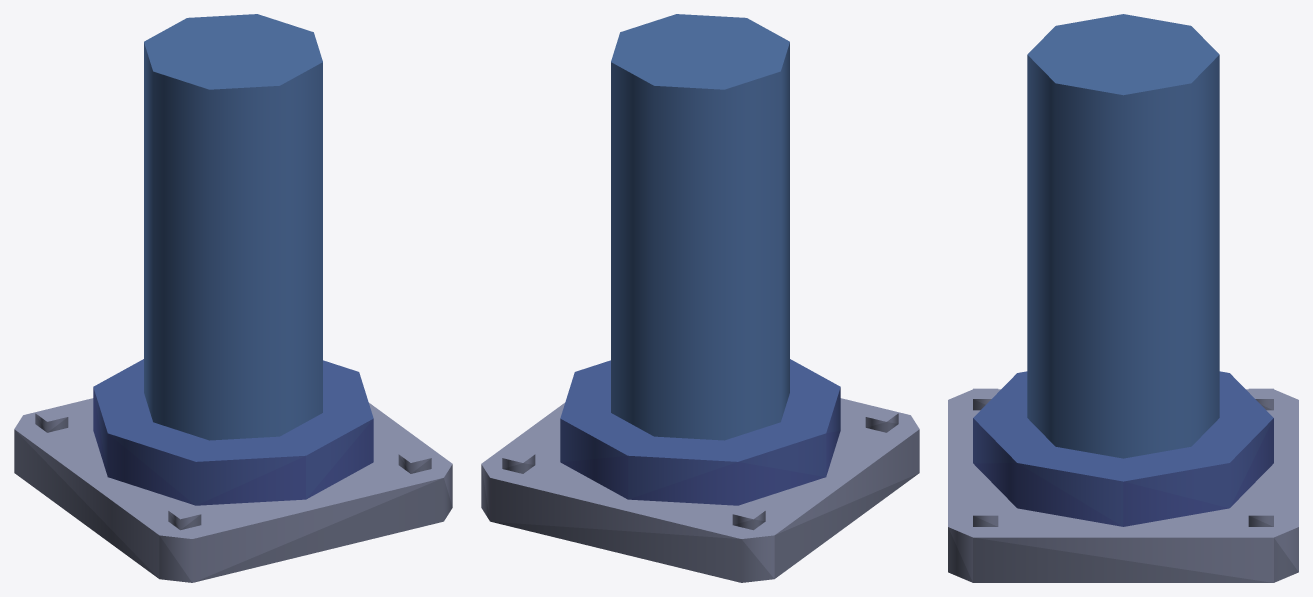
Rendered from coaster_support_large_bottom.glb.
The picture shows the model from 3 angles, left to right: view 1: azimuth 30°, elevation 25°; view 2: azimuth 150°, elevation 25°; view 3: azimuth 270°, elevation 25°; orthographic projection. The views are drawn at different scales.
Parts seen in each view (by area): view 1: coaster_support_large_bottom; view 2: coaster_support_large_bottom; view 3: coaster_support_large_bottom.
Part boxes in pixels (<box>): coaster_support_large_bottom: <box>14,14,452,582</box>; coaster_support_large_bottom: <box>481,14,919,582</box>; coaster_support_large_bottom: <box>948,14,1298,582</box>.
Bounding box in the file's own units: 0.7 × 1 × 0.7.
